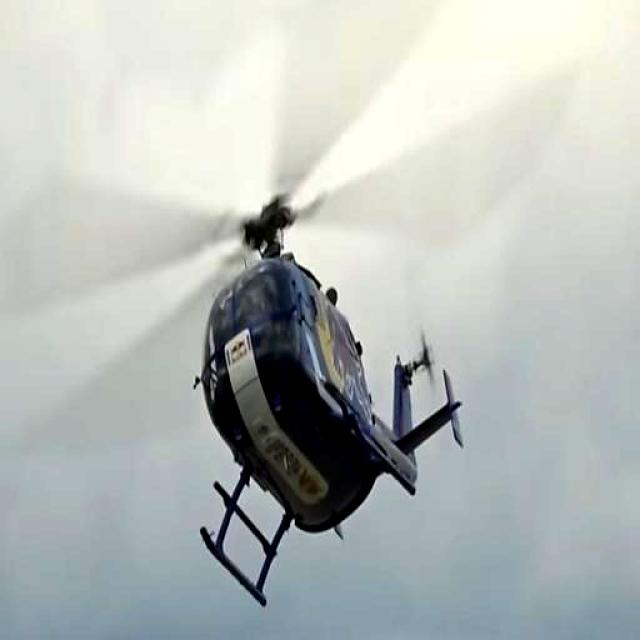drone: (88, 81, 504, 622)
